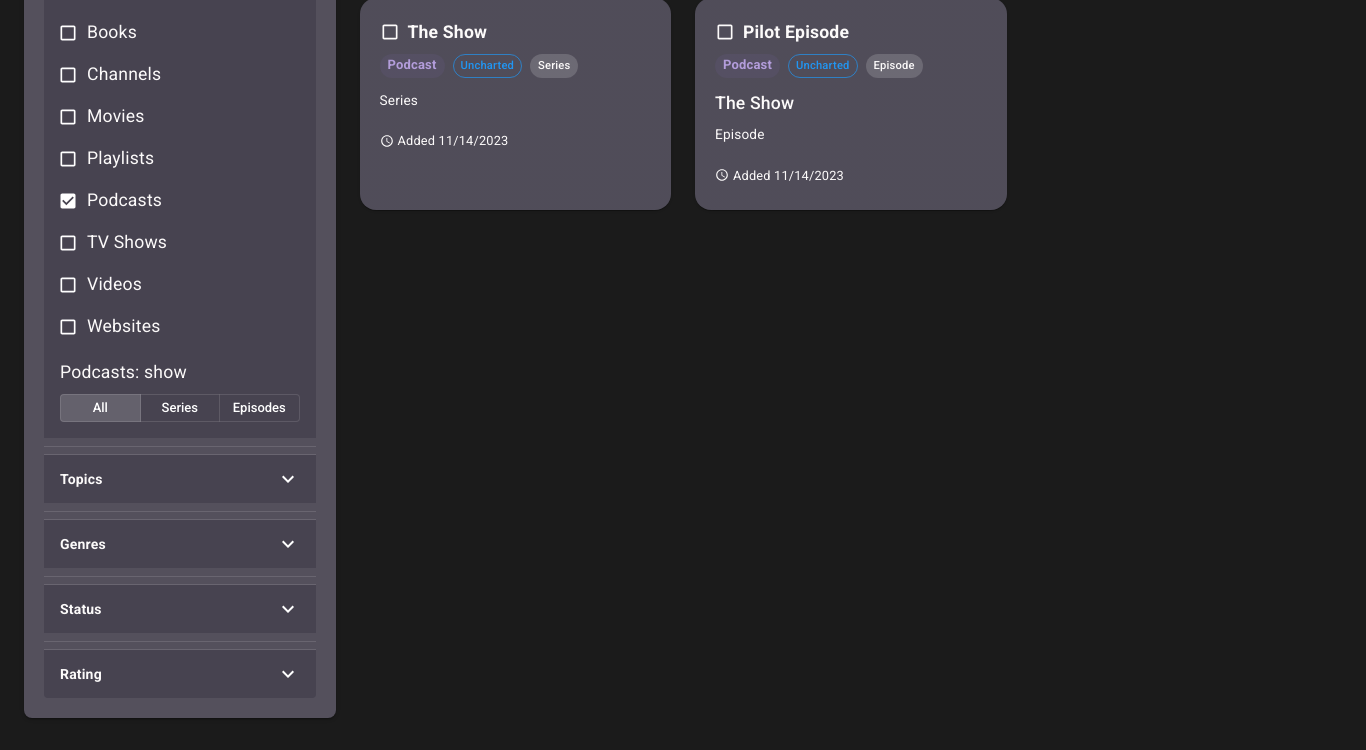
Test: Search podcast Series/Episodes filter › narrows podcasts to episodes and back, filtering on podcast_type
(page scrolled)
Expected: the heading "Pilot Episode" is shown, [743,18,849,46]
Expected: the heading "The Show" is shown, [408,18,487,46]
Click the button "Series". click: (180, 408)
box: [140,394,220,422]
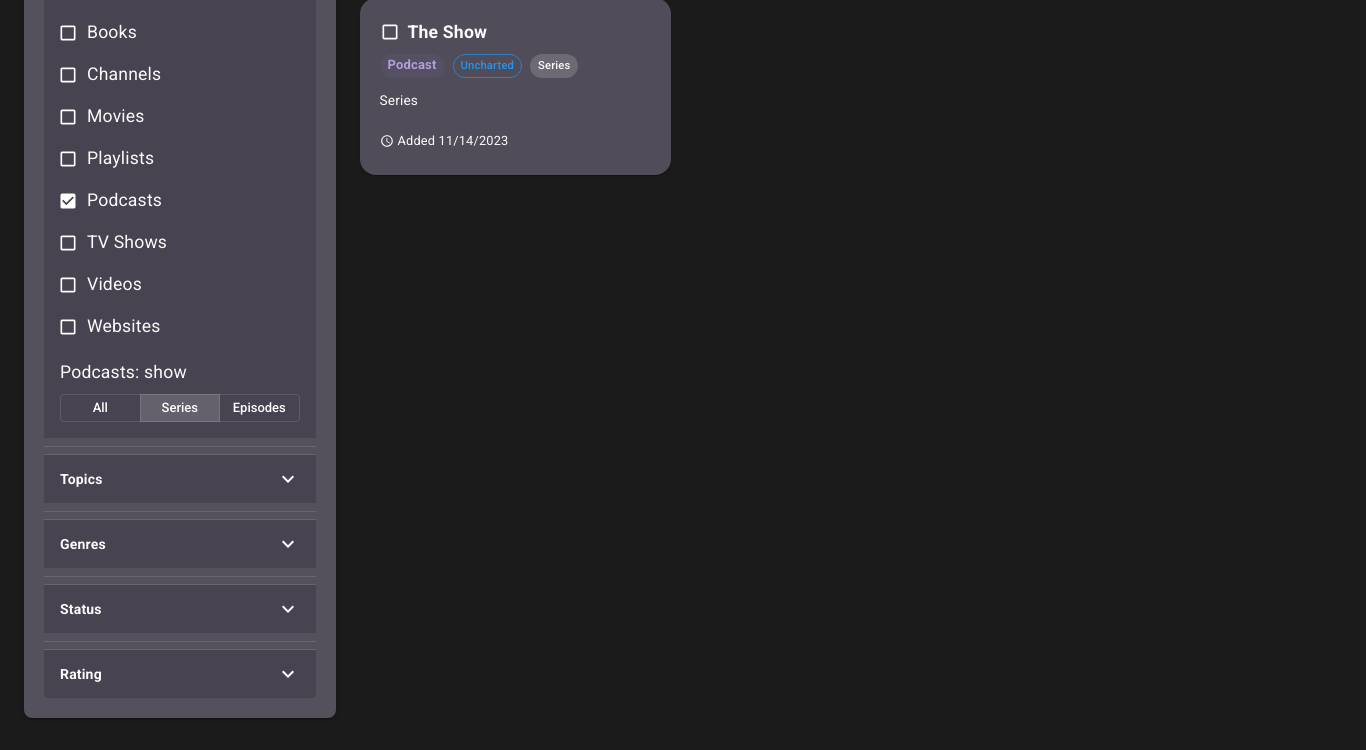
Result: the link "Pilot Episode" is gone
Click the button "All". click: (100, 408)
box: [60,394,140,422]
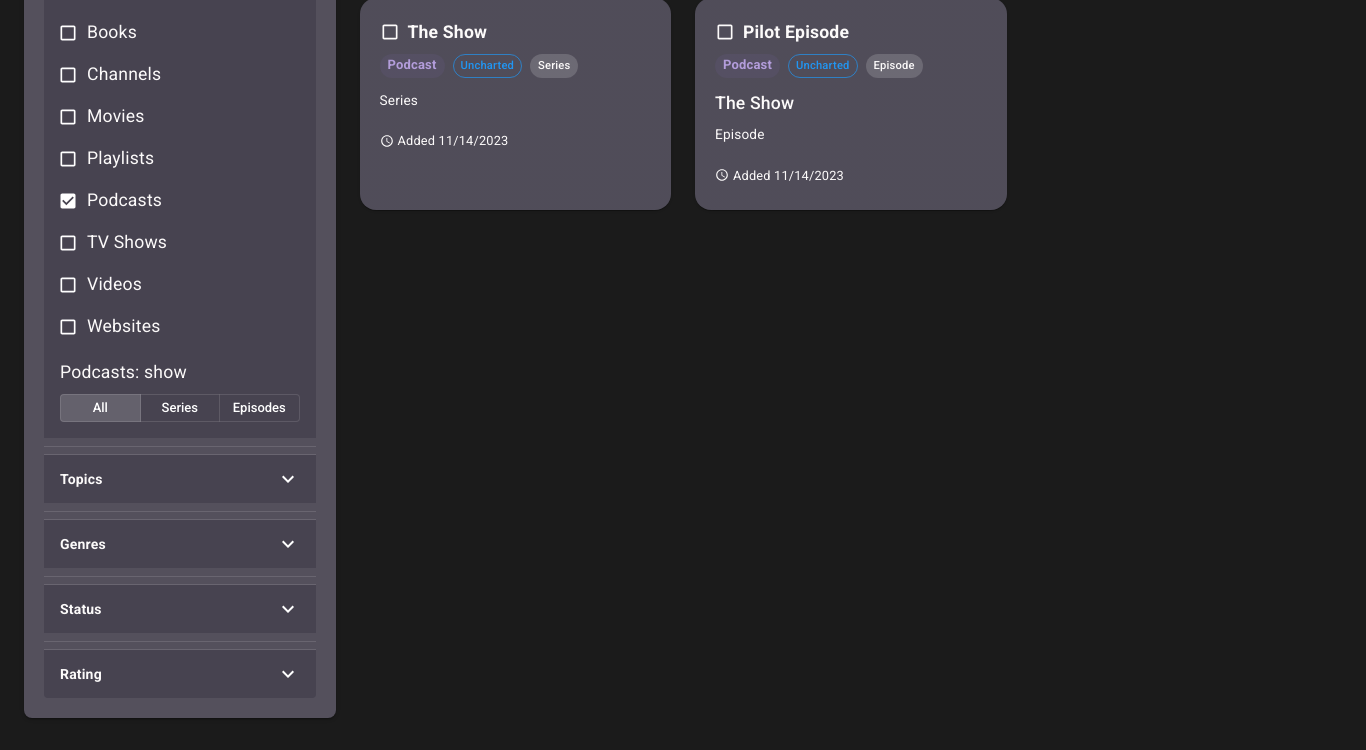
Result: the heading "Pilot Episode" is shown at [743,18,849,46]
